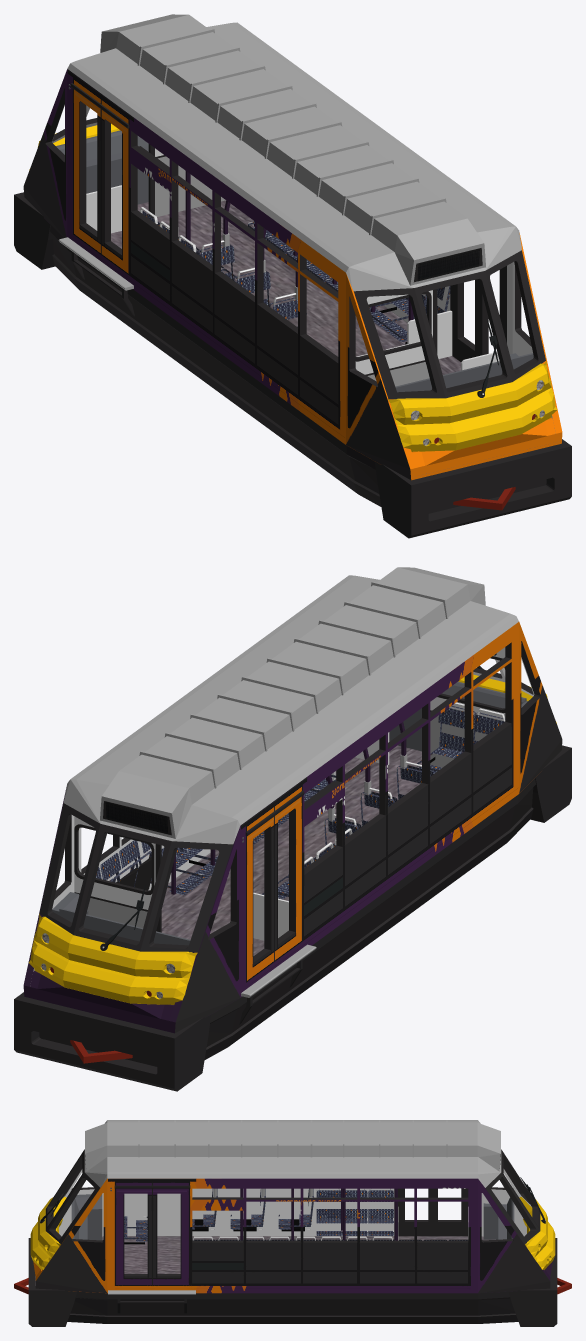
File: wmt_class139.obj
The picture shows the model from 3 angles, top to bottom: view 1: azimuth 30°, elevation 25°; view 2: azimuth 150°, elevation 25°; view 3: azimuth 270°, elevation 25°; orthographic projection. The views are drawn at different scales.
Parts seen in each view (by area): view 1: jibung, side, front, coupler, habu, floor, driverwall, interiors, oscarchair, door_RB, door_RF, bid (+5 smaller); view 2: jibung, side, front, coupler, habu, floor, oscarchair, driverwall, door_RB, door_RF, interiors, bid (+3 smaller); view 3: side, jibung, habu, inside, front, oscarchair, coupler, floor, door_LF, door_LB, interiors, bong (+3 smaller).
Part boxes in pixels (box(x1,y1,x2,y2)): jibung: box(67, 14, 521, 291); side: box(23, 69, 562, 480); front: box(29, 104, 557, 467); coupler: box(14, 192, 571, 538); habu: box(50, 225, 381, 506); floor: box(111, 200, 460, 473); driverwall: box(86, 144, 499, 386); interiors: box(56, 130, 533, 392); oscarchair: box(142, 211, 450, 344); door_RB: box(73, 89, 101, 260); door_RF: box(101, 109, 129, 281); bid: box(58, 83, 134, 316); jibung: box(63, 567, 518, 844); side: box(23, 622, 562, 1033); front: box(29, 657, 556, 1020); coupler: box(14, 745, 571, 1091); habu: box(204, 778, 535, 1059); floor: box(161, 745, 421, 955); oscarchair: box(95, 706, 505, 900); driverwall: box(74, 647, 505, 940); door_RB: box(246, 817, 274, 988); door_RF: box(274, 796, 302, 968); interiors: box(52, 653, 527, 945); bid: box(239, 790, 316, 1024); side: box(35, 1169, 550, 1293); jibung: box(84, 1120, 501, 1187); habu: box(67, 1291, 518, 1323); inside: box(124, 1188, 467, 1236); front: box(30, 1149, 555, 1278); oscarchair: box(124, 1188, 468, 1244); coupler: box(14, 1238, 571, 1326); floor: box(35, 1236, 495, 1285); door_LF: box(114, 1188, 152, 1290); door_LB: box(152, 1188, 189, 1290); interiors: box(71, 1188, 514, 1240); bong: box(192, 1188, 397, 1240).
Size of the model in its own units: 2.68 by 3.39 by 10.18.
Materials: 21 (20 with a texture image).
